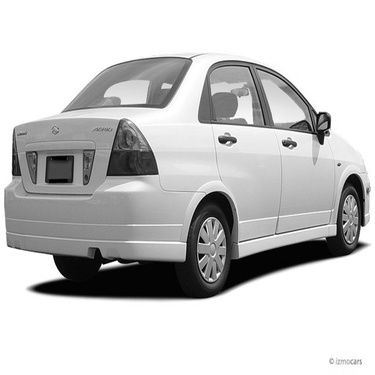car: (3, 41, 373, 301)
